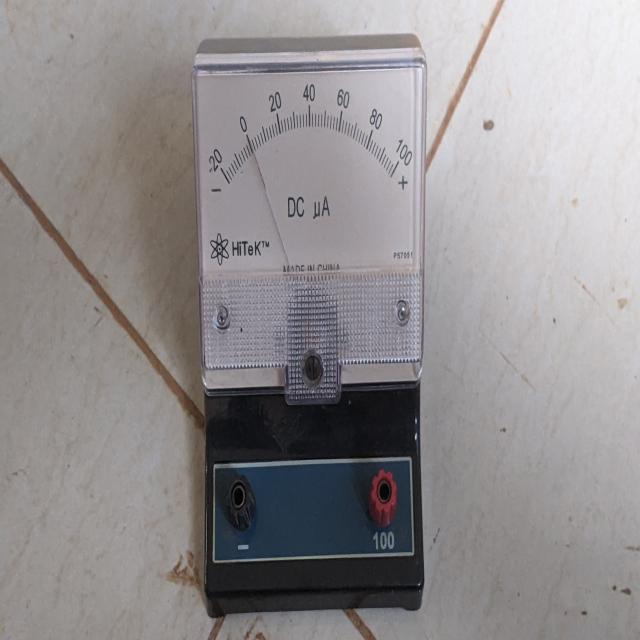Ammeter Analog: (189, 42, 435, 627)
